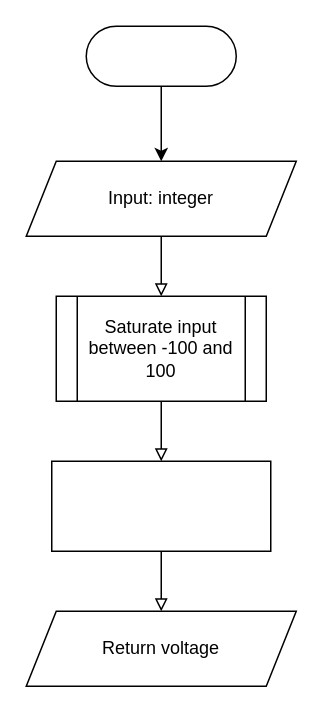
Some shapes in this 323 by 713 pixel diagram are drawn without their labels. The shapes that lost their labels are listed below. From the top down, each one's centre as x and y in pixels, then its label:
At point (160, 55): "Start".
At point (160, 505): "Calculate voltage with 5000 * (powerLevel) / 100".
